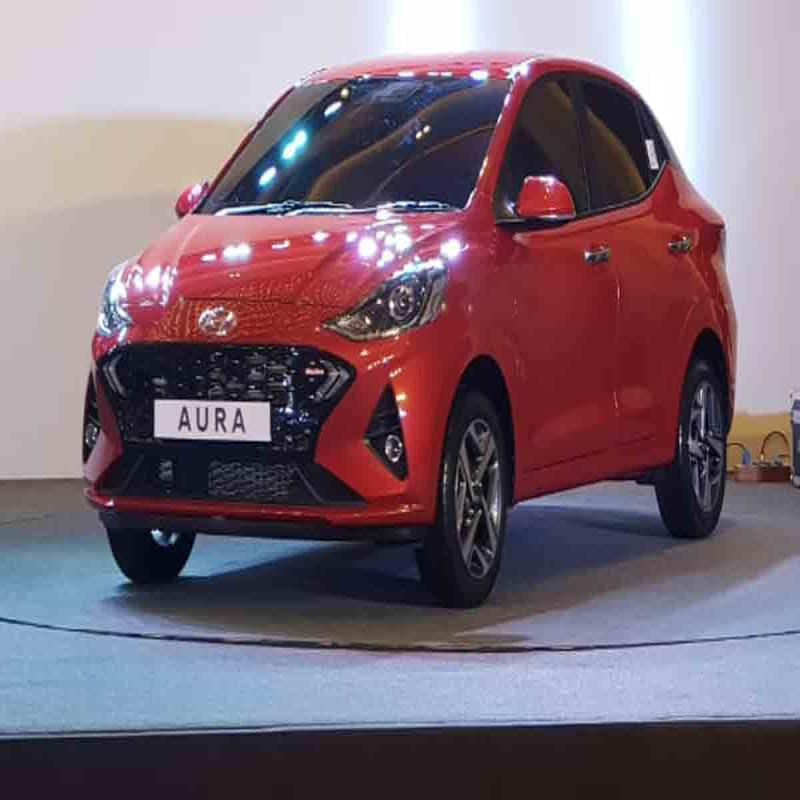car: (70, 56, 731, 575)
